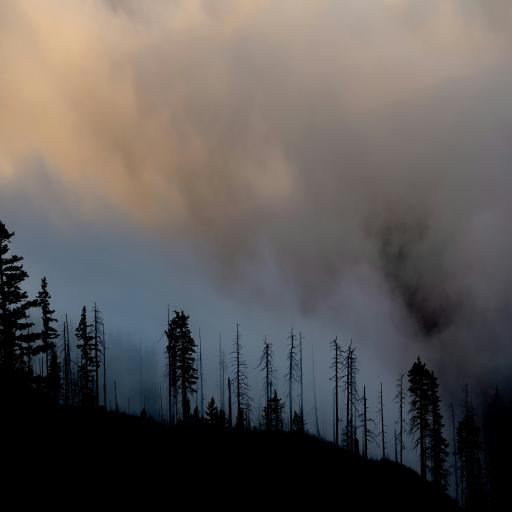wildfire: (0, 145, 512, 512)
